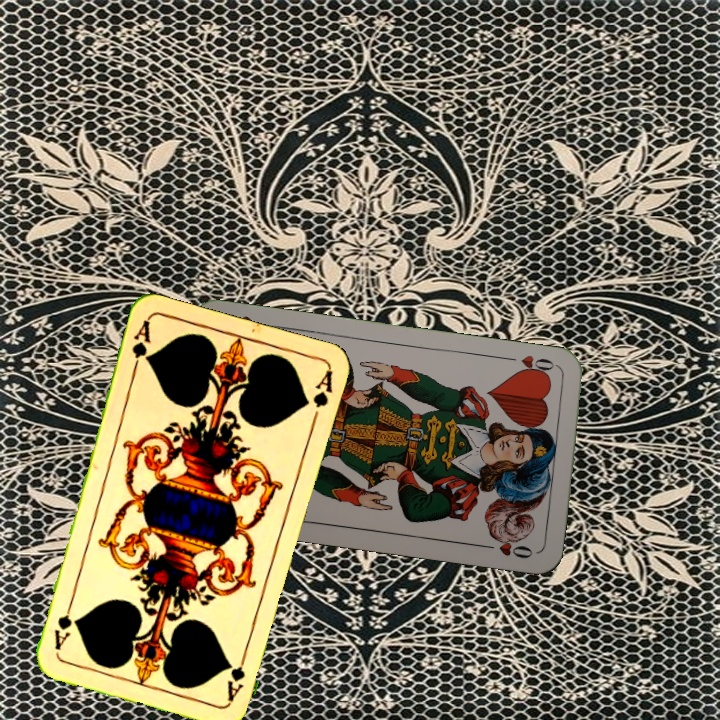GA: (223, 646, 250, 704), (128, 316, 154, 375)
HO: (503, 351, 562, 380)
